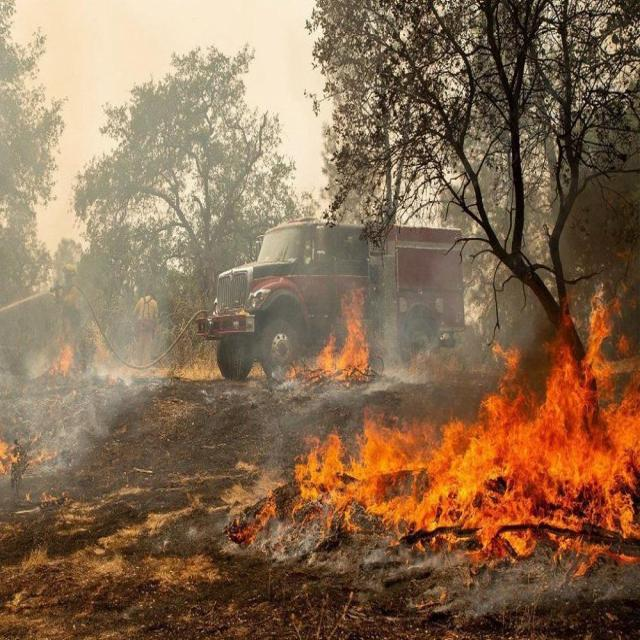fire: (263, 286, 640, 568), (292, 286, 379, 381)
